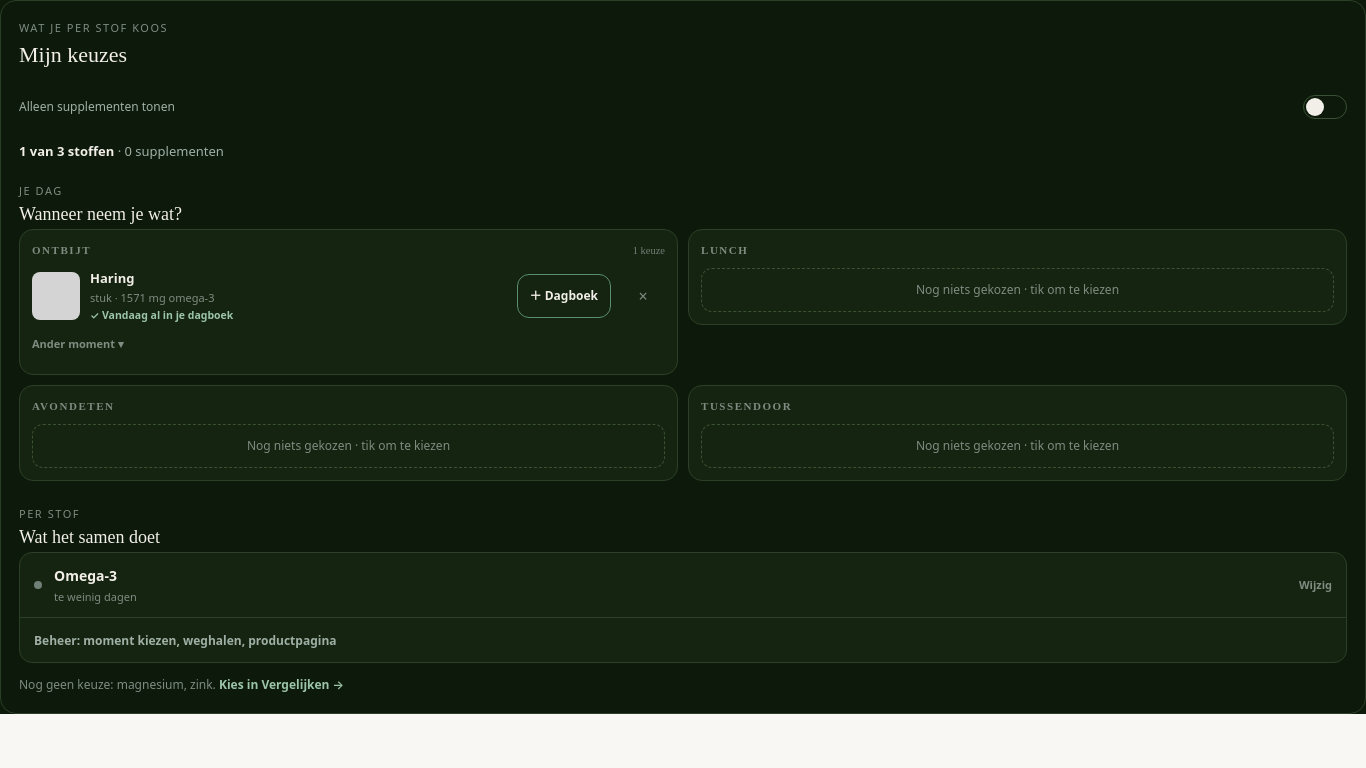
it: MijnKeuzes › toont wat je vandaag al gelogd hebt, en een foutmelding als loggen mislukt
Expected: the text "✓ Vandaag al in je dagboek" is shown, 90,308 -> 233,322
What coordinates should you click on to do the following:
click the button with aria-label "Haring in je dagboek zetten bij ontbijt"
I would click on:
 (564, 296)
Its box is 517,274 -> 611,318.
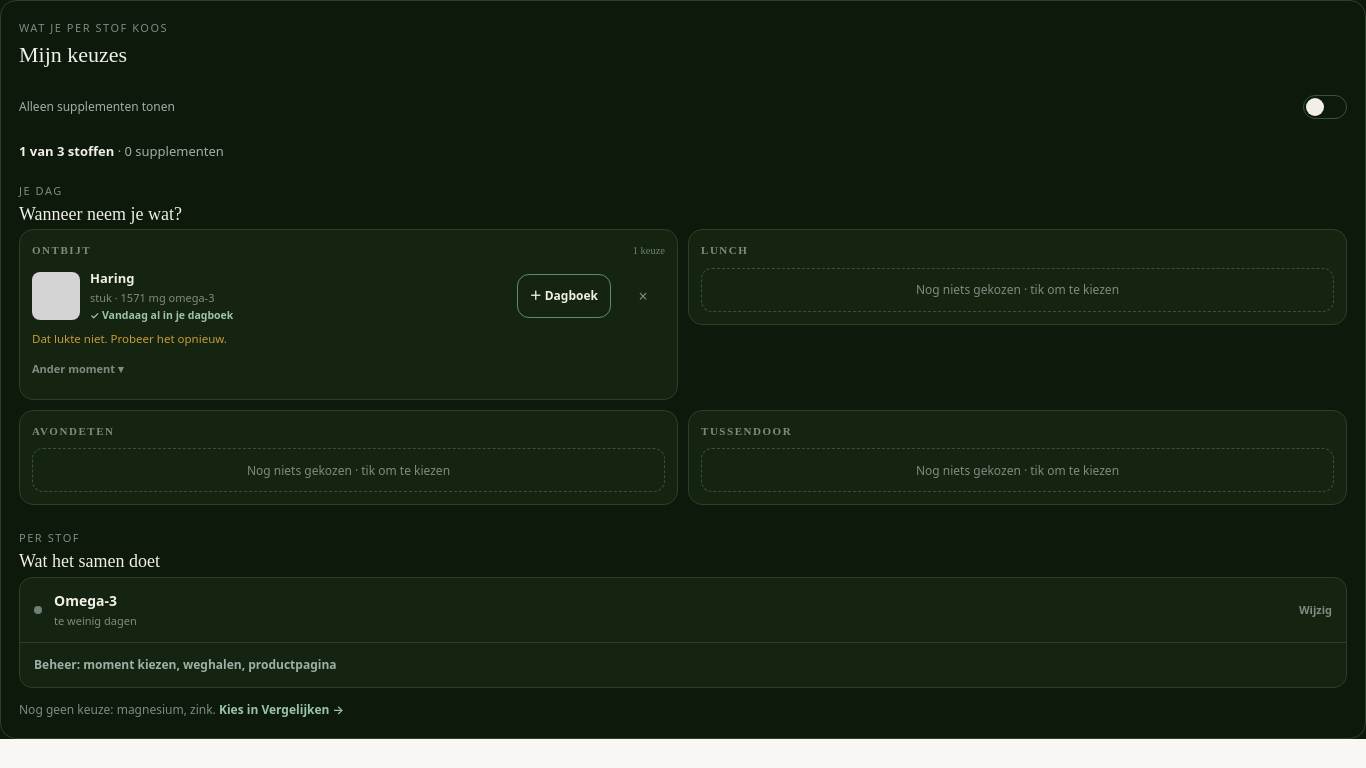
Expected: the message shows "lukte niet", 32,331 -> 227,346
